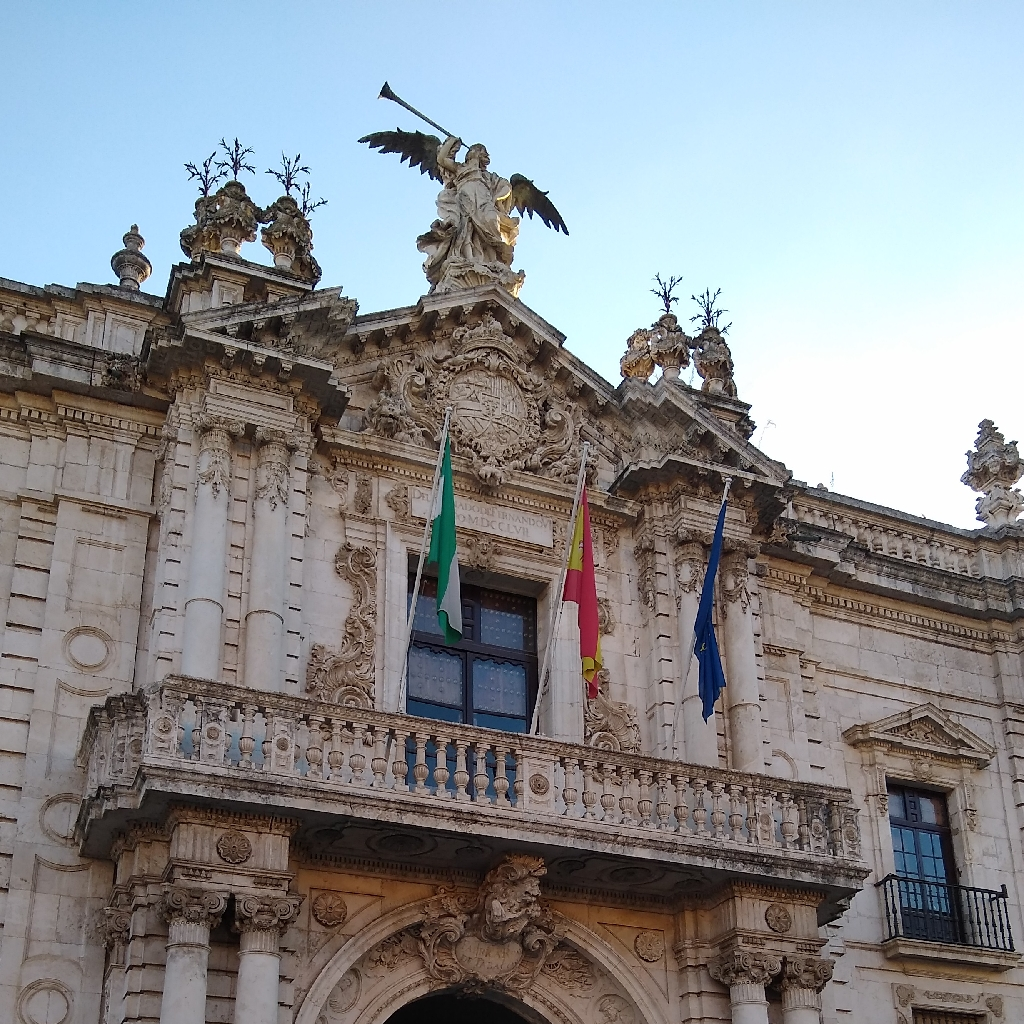fronton: (845, 701, 997, 767)
fronton-partido: (174, 286, 792, 491)
vano-adintelado: (374, 521, 584, 820), (864, 762, 987, 955)
